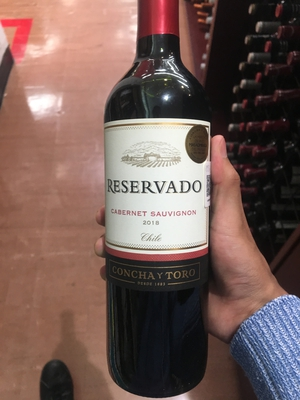reservado cabernet sauvignon: (91, 1, 217, 389)
